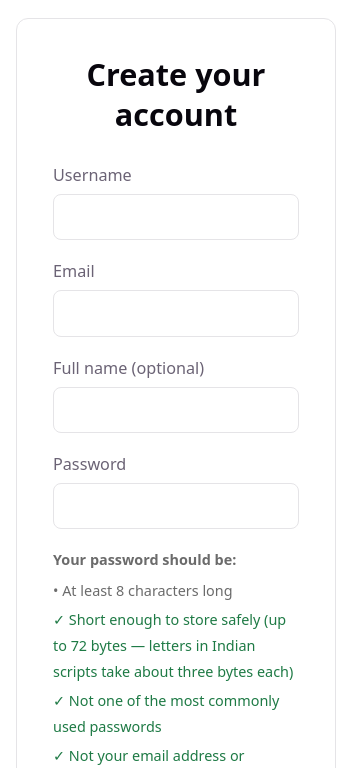
Test: RegisterPage password requirements › falls back to the generic message for a non-password failure
The image size is (353, 768).
In the field labelled "Username": x=176, y=217 x1=53 y1=194 x2=299 y2=240, type "sanakumari"
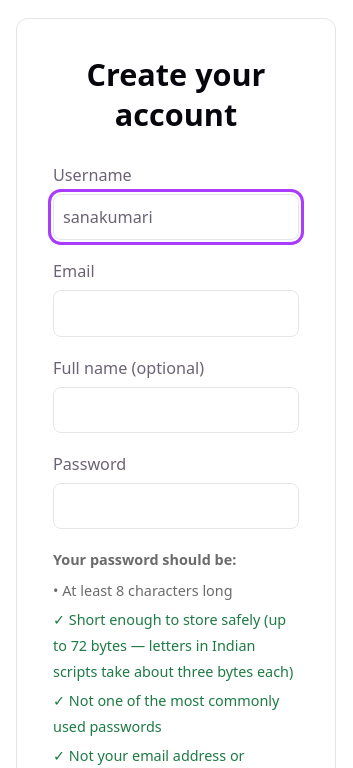
In the field labelled "Email": x=176, y=313 x1=53 y1=290 x2=299 y2=336, type "sana@example.com"
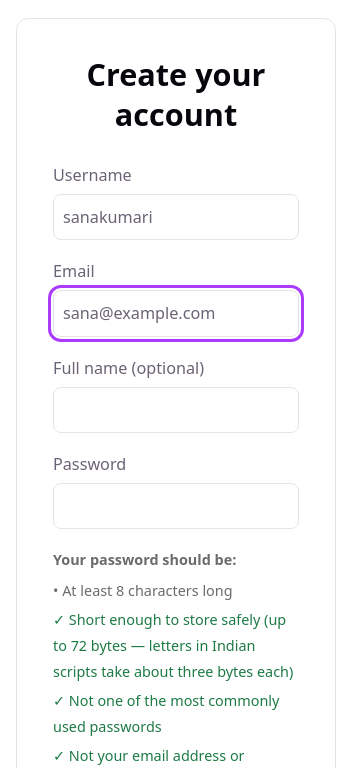
In the password field labelled "Password": x=176, y=506 x1=53 y1=483 x2=299 y2=530, type "kolkata-monsoon-77"
(page scrolled)
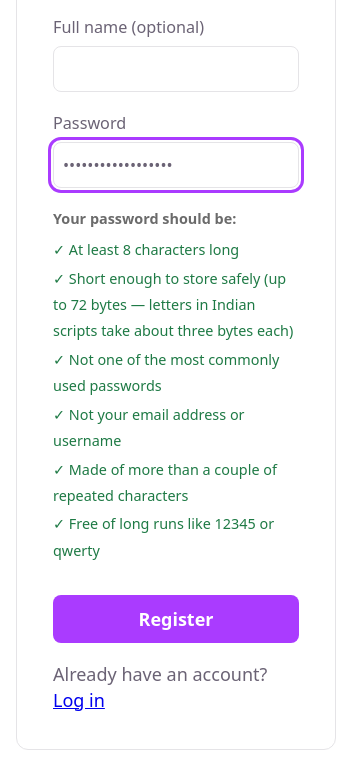
Click the button: x=176, y=619 x1=53 y1=595 x2=299 y2=643
(page scrolled)
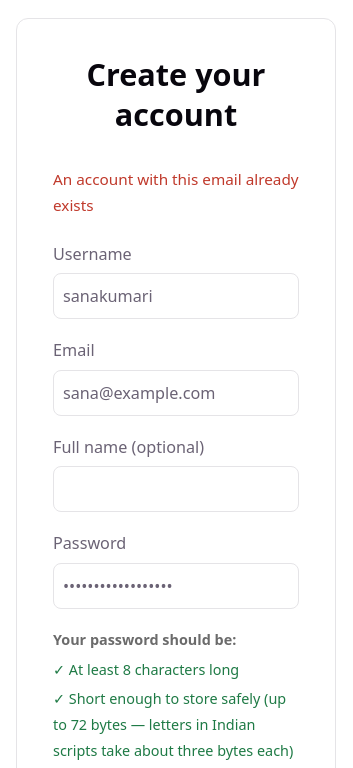
Expected: the text "An account with this email already exists" is shown, x1=53 y1=166 x2=299 y2=218
